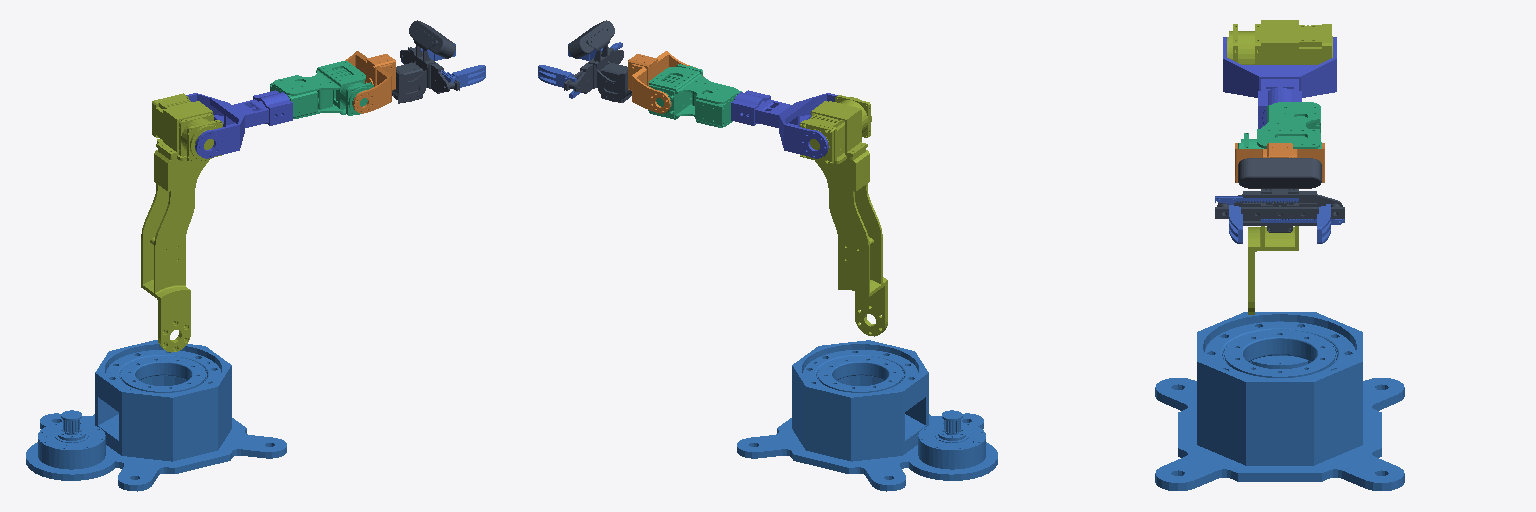
robot.urdf — Arm_6Dof:
<?xml version="1.0" encoding="utf-8"?>
<!-- This URDF was automatically created by SolidWorks to URDF Exporter! Originally created by Stephen Brawner (brawner@gmail.com) 
     Commit Version: 1.6.0-4-g7f85cfe  Build Version: 1.6.7995.38578
     For more information, please see http://wiki.ros.org/sw_urdf_exporter -->
<robot
  name="Arm_6Dof">
  <link
    name="base_link">
    <inertial>
      <origin
        xyz="-0.00521563022618185 8.29309118491598E-07 0.0354953695658926"
        rpy="0 0 0" />
      <mass
        value="14.3848181688365" />
      <inertia
        ixx="0.0639338597888526"
        ixy="-8.13189875651133E-08"
        ixz="-0.00372948678752425"
        iyy="0.0737847024894178"
        iyz="2.46623267957171E-07"
        izz="0.113241520618042" />
    </inertial>
    <visual>
      <origin
        xyz="0 0 0"
        rpy="0 0 0" />
      <geometry>
        <mesh
          filename="package://Arm_6Dof/meshes/base_link.STL" />
      </geometry>
      <material
        name="">
        <color
          rgba="0.28 0.52 0.78 1" />
      </material>
    </visual>
    <collision>
      <origin
        xyz="0 0 0"
        rpy="0 0 0" />
      <geometry>
        <mesh
          filename="package://Arm_6Dof/meshes/base_link.STL" />
      </geometry>
    </collision>
  </link>
  <link
    name="Jianbu_Link">
    <inertial>
      <origin
        xyz="9.23182774966788E-07 0.0014453315353078 -0.00141989169261772"
        rpy="0 0 0" />
      <mass
        value="4.04937476025529" />
      <inertia
        ixx="0.00738330779051646"
        ixy="5.7922808209959E-09"
        ixz="-2.61699939519434E-08"
        iyy="0.00785486863170345"
        iyz="-0.000368605323849023"
        izz="0.00973795934474612" />
    </inertial>
    <visual>
      <origin
        xyz="0 0 0"
        rpy="0 0 0" />
      <geometry>
        <mesh
          filename="package://Arm_6Dof/meshes/Jianbu_Link.STL" />
      </geometry>
      <material
        name="">
        <color
          rgba="0.72 0.44 0.22 1" />
      </material>
    </visual>
    <collision>
      <origin
        xyz="0 0 0"
        rpy="0 0 0" />
      <geometry>
        <mesh
          filename="package://Arm_6Dof/meshes/Jianbu_Link.STL" />
      </geometry>
    </collision>
  </link>
  <joint
    name="J_jianbu"
    type="continuous">
    <origin
      xyz="0 0 0.11"
      rpy="0 0 0" />
    <parent
      link="base_link" />
    <child
      link="Jianbu_Link" />
    <axis
      xyz="0 0 1" />
  </joint>
  <link
    name="Dabi_Link">
    <inertial>
      <origin
        xyz="0.018356014404853 0.184106817532758 0.00441772917544226"
        rpy="0 0 0" />
      <mass
        value="1.6088346011298" />
      <inertia
        ixx="0.0100765148348041"
        ixy="-0.00126648014951026"
        ixz="8.82235558306736E-05"
        iyy="0.00139947411810608"
        iyz="0.000919438530098827"
        izz="0.0100346514437429" />
    </inertial>
    <visual>
      <origin
        xyz="0 0 0"
        rpy="0 0 0" />
      <geometry>
        <mesh
          filename="package://Arm_6Dof/meshes/Dabi_Link.STL" />
      </geometry>
      <material
        name="">
        <color
          rgba="0.62 0.70 0.28 1" />
      </material>
    </visual>
    <collision>
      <origin
        xyz="0 0 0"
        rpy="0 0 0" />
      <geometry>
        <mesh
          filename="package://Arm_6Dof/meshes/Dabi_Link.STL" />
      </geometry>
    </collision>
  </link>
  <joint
    name="J_dabi"
    type="revolute">
    <origin
      xyz="0 0 0.065"
      rpy="1.5708 0 0" />
    <parent
      link="Jianbu_Link" />
    <child
      link="Dabi_Link" />
    <axis
      xyz="0 0 1" />
    <limit
      lower="-1.7453"
      upper="1.7453"
      effort="40"
      velocity="0" />
  </joint>
  <link
    name="Upper_Link">
    <inertial>
      <origin
        xyz="5.879782272461E-05 0.0877737697130378 1.95018046778998E-17"
        rpy="0 0 0" />
      <mass
        value="0.21562108057225" />
      <inertia
        ixx="0.000462308408244091"
        ixy="-4.89726981066451E-07"
        ixz="-9.14087899968102E-21"
        iyy="0.000247247739183487"
        iyz="5.97947244323856E-20"
        izz="0.000264364063181461" />
    </inertial>
    <visual>
      <origin
        xyz="0 0 0"
        rpy="0 0 0" />
      <geometry>
        <mesh
          filename="package://Arm_6Dof/meshes/Upper_Link.STL" />
      </geometry>
      <material
        name="">
        <color
          rgba="0.34 0.40 0.82 1" />
      </material>
    </visual>
    <collision>
      <origin
        xyz="0 0 0"
        rpy="0 0 0" />
      <geometry>
        <mesh
          filename="package://Arm_6Dof/meshes/Upper_Link.STL" />
      </geometry>
    </collision>
  </link>
  <joint
    name="J_Upper"
    type="revolute">
    <origin
      xyz="0.04461 0.3 0"
      rpy="0 0 -1.5708" />
    <parent
      link="Dabi_Link" />
    <child
      link="Upper_Link" />
    <axis
      xyz="0 0 1" />
    <limit
      lower="-1.047198"
      upper="1.5708"
      effort="25"
      velocity="0" />
  </joint>
  <link
    name="Lower_Link">
    <inertial>
      <origin
        xyz="-0.00725575286606748 9.83980430468989E-09 0.0674547981254198"
        rpy="0 0 0" />
      <mass
        value="0.349997786945152" />
      <inertia
        ixx="0.000190863204797066"
        ixy="5.63663367687888E-12"
        ixz="-1.00074762107187E-05"
        iyy="0.000294328357128498"
        iyz="5.57344180229976E-12"
        izz="0.000162416180866698" />
    </inertial>
    <visual>
      <origin
        xyz="0 0 0"
        rpy="0 0 0" />
      <geometry>
        <mesh
          filename="package://Arm_6Dof/meshes/Lower_Link.STL" />
      </geometry>
      <material
        name="">
        <color
          rgba="0.25 0.70 0.54 1" />
      </material>
    </visual>
    <collision>
      <origin
        xyz="0 0 0"
        rpy="0 0 0" />
      <geometry>
        <mesh
          filename="package://Arm_6Dof/meshes/Lower_Link.STL" />
      </geometry>
    </collision>
  </link>
  <joint
    name="J_Lower"
    type="continuous">
    <origin
      xyz="0 0.15539 0"
      rpy="-1.5708 -1.5708 0" />
    <parent
      link="Upper_Link" />
    <child
      link="Lower_Link" />
    <axis
      xyz="0 0 -1" />
  </joint>
  <link
    name="Wrist_Link">
    <inertial>
      <origin
        xyz="-0.00915920500706874 0.0414526556191951 -1.52016542270543E-08"
        rpy="0 0 0" />
      <mass
        value="0.133743218379783" />
      <inertia
        ixx="5.15917393265877E-05"
        ixy="7.21057583181707E-06"
        ixz="5.49254165793553E-11"
        iyy="3.75958994198359E-05"
        iyz="4.12926571580918E-11"
        izz="5.39197585386925E-05" />
    </inertial>
    <visual>
      <origin
        xyz="0 0 0"
        rpy="0 0 0" />
      <geometry>
        <mesh
          filename="package://Arm_6Dof/meshes/Wrist_Link.STL" />
      </geometry>
      <material
        name="">
        <color
          rgba="0.86 0.56 0.30 1" />
      </material>
    </visual>
    <collision>
      <origin
        xyz="0 0 0"
        rpy="0 0 0" />
      <geometry>
        <mesh
          filename="package://Arm_6Dof/meshes/Wrist_Link.STL" />
      </geometry>
    </collision>
  </link>
  <joint
    name="J_wrist"
    type="revolute">
    <origin
      xyz="0 0 0.1"
      rpy="1.5708 0 1.5708" />
    <parent
      link="Lower_Link" />
    <child
      link="Wrist_Link" />
    <axis
      xyz="0 0 1" />
    <limit
      lower="-1.5708"
      upper="1.5708"
      effort="0"
      velocity="0" />
  </joint>
  <link
    name="Hand_Link">
    <inertial>
      <origin
        xyz="1.76946669830966E-07 -0.00858821496570578 0.0467989545150534"
        rpy="0 0 0" />
      <mass
        value="0.24708380496277" />
      <inertia
        ixx="7.59311111531335E-05"
        ixy="6.4441579688007E-10"
        ixz="1.24923563916955E-10"
        iyy="0.000192138552175229"
        iyz="6.73666531540384E-06"
        izz="0.000174803079680684" />
    </inertial>
    <visual>
      <origin
        xyz="0 0 0"
        rpy="0 0 0" />
      <geometry>
        <mesh
          filename="package://Arm_6Dof/meshes/Hand_Link.STL" />
      </geometry>
      <material
        name="">
        <color
          rgba="0.30 0.34 0.40 1" />
      </material>
    </visual>
    <collision>
      <origin
        xyz="0 0 0"
        rpy="0 0 0" />
      <geometry>
        <mesh
          filename="package://Arm_6Dof/meshes/Hand_Link.STL" />
      </geometry>
    </collision>
  </link>
  <joint
    name="J_hand"
    type="continuous">
    <origin
      xyz="0 0.074 0"
      rpy="-1.5708 -1.5708 0" />
    <parent
      link="Wrist_Link" />
    <child
      link="Hand_Link" />
    <axis
      xyz="0 0 -1" />
  </joint>
  <link
    name="Claw_Link_left">
    <inertial>
      <origin
        xyz="0.043195 -0.0037299 0.0066554"
        rpy="0 0 0" />
      <mass
        value="0.031566" />
      <inertia
        ixx="3.5985E-06"
        ixy="1.5291E-07"
        ixz="3.6857E-07"
        iyy="8.014E-06"
        iyz="-1.8626E-07"
        izz="6.3983E-06" />
    </inertial>
    <visual>
      <origin
        xyz="0 0 0"
        rpy="0 0 0" />
      <geometry>
        <mesh
          filename="package://Arm_6Dof/meshes/Claw_Link_left.STL" />
      </geometry>
      <material
        name="">
        <color
          rgba="0.32 0.46 0.80 1" />
      </material>
    </visual>
    <collision>
      <origin
        xyz="0 0 0"
        rpy="0 0 0" />
      <geometry>
        <mesh
          filename="package://Arm_6Dof/meshes/Claw_Link_left.STL" />
      </geometry>
    </collision>
  </link>
  <joint
    name="Claw_left"
    type="prismatic">
    <origin
      xyz="0 0 0.07"
      rpy="0 0 0" />
    <parent
      link="Hand_Link" />
    <child
      link="Claw_Link_left" />
    <axis
      xyz="-1 0 0" />
    <limit
      lower="0"
      upper="0.04"
      effort="0"
      velocity="0" />
  </joint>
  <link
    name="Claw_Link_right">
    <inertial>
      <origin
        xyz="0.043195 -0.0037299 0.0066554"
        rpy="0 0 0" />
      <mass
        value="0.031566" />
      <inertia
        ixx="3.5985E-06"
        ixy="1.5291E-07"
        ixz="3.6857E-07"
        iyy="8.014E-06"
        iyz="-1.8626E-07"
        izz="6.3983E-06" />
    </inertial>
    <visual>
      <origin
        xyz="0 0 0"
        rpy="0 0 0" />
      <geometry>
        <mesh
          filename="package://Arm_6Dof/meshes/Claw_Link_right.STL" />
      </geometry>
      <material
        name="">
        <color
          rgba="0.32 0.46 0.80 1" />
      </material>
    </visual>
    <collision>
      <origin
        xyz="0 0 0"
        rpy="0 0 0" />
      <geometry>
        <mesh
          filename="package://Arm_6Dof/meshes/Claw_Link_right.STL" />
      </geometry>
    </collision>
  </link>
  <joint
    name="claw_right"
    type="prismatic">
    <origin
      xyz="0 0 0.07"
      rpy="0 0 3.1416" />
    <parent
      link="Hand_Link" />
    <child
      link="Claw_Link_right" />
    <axis
      xyz="1 0 0" />
    <limit
      lower="-0.04"
      upper="0"
      effort="0"
      velocity="0" />
    <mimic
      joint="Claw_left"
      multiplier="-1"
      offset="0" />
  </joint>
</robot>

--- Render facts (derived) ---
3 views of the same robot in one strip: view 1: azimuth 30°, elevation 25°; view 2: azimuth 150°, elevation 25°; view 3: azimuth 270°, elevation 25° (orthographic).
Robot: Arm_6Dof — 9 links, 8 joints (3 revolute, 3 continuous, 2 prismatic); root link base_link; default pose: all joints at 0.
Visible links, largest first — view 1: base_link, Dabi_Link, Lower_Link, Upper_Link, Hand_Link, Wrist_Link, Claw_Link_left; view 2: base_link, Dabi_Link, Lower_Link, Upper_Link, Hand_Link, Wrist_Link, Claw_Link_right; view 3: base_link, Dabi_Link, Hand_Link, Upper_Link, Lower_Link, Wrist_Link, Claw_Link_left, Claw_Link_right.
Link boxes in pixels (<box>): base_link: <box>26,340,286,491</box>; Dabi_Link: <box>141,93,222,352</box>; Lower_Link: <box>270,61,373,118</box>; Upper_Link: <box>186,90,292,158</box>; Hand_Link: <box>392,20,459,103</box>; Wrist_Link: <box>345,51,395,113</box>; Claw_Link_left: <box>441,65,485,87</box>; base_link: <box>737,340,997,491</box>; Dabi_Link: <box>800,95,887,336</box>; Lower_Link: <box>648,64,741,127</box>; Upper_Link: <box>731,90,837,158</box>; Hand_Link: <box>564,20,631,102</box>; Wrist_Link: <box>628,51,703,113</box>; Claw_Link_right: <box>538,65,580,98</box>; base_link: <box>1155,312,1404,490</box>; Dabi_Link: <box>1227,20,1332,314</box>; Hand_Link: <box>1215,158,1344,232</box>; Upper_Link: <box>1223,37,1336,128</box>; Lower_Link: <box>1238,102,1321,148</box>; Wrist_Link: <box>1235,143,1324,182</box>; Claw_Link_left: <box>1215,196,1298,243</box>; Claw_Link_right: <box>1261,204,1344,243</box>.
Size in the robot's own frame: 0.7155 by 0.27 by 0.5378 metres.
Meshes: 9 distinct files referenced, 8 mesh visuals loaded (8 binary STL); not drawn: 1 (reference not matched to a file when rendering).
